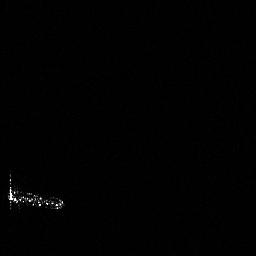ship: (4, 169, 68, 214)
